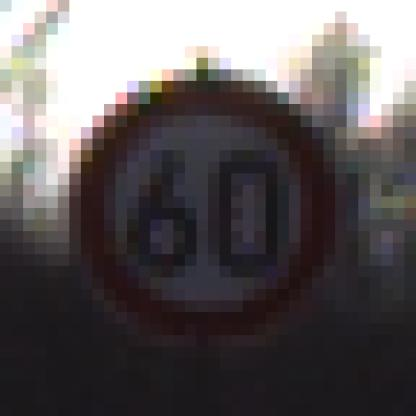Speed Limit 60: (78, 78, 328, 332)
